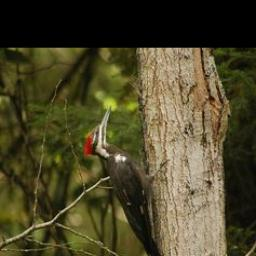Woodpecker: (83, 104, 174, 256)
